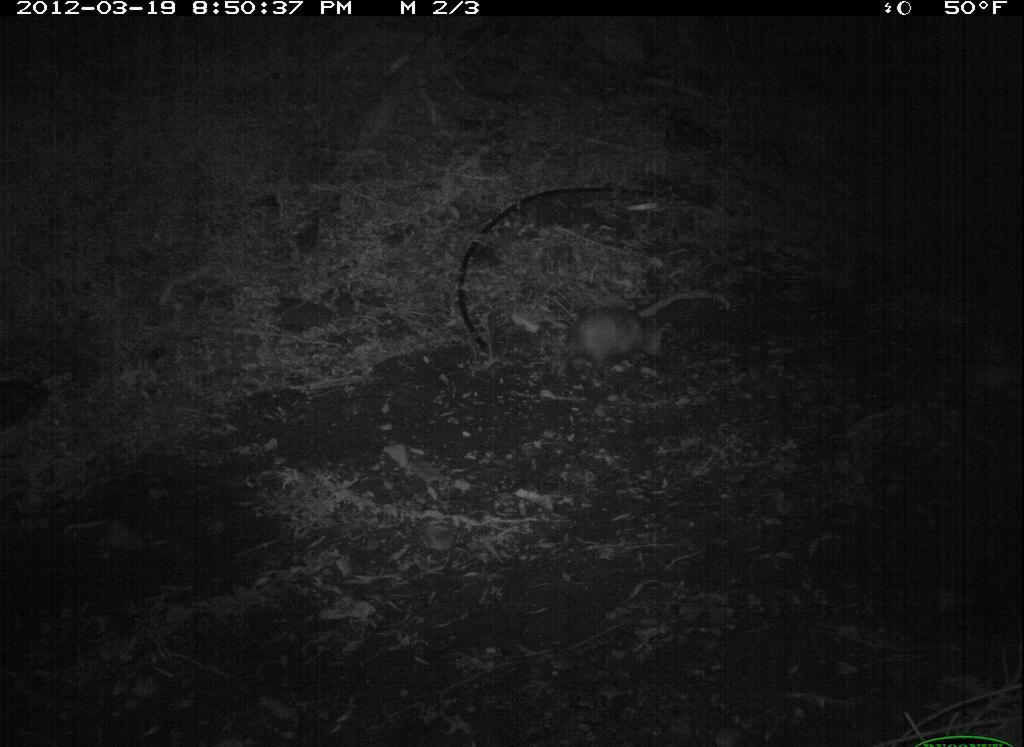opossum: (553, 299, 676, 387)
